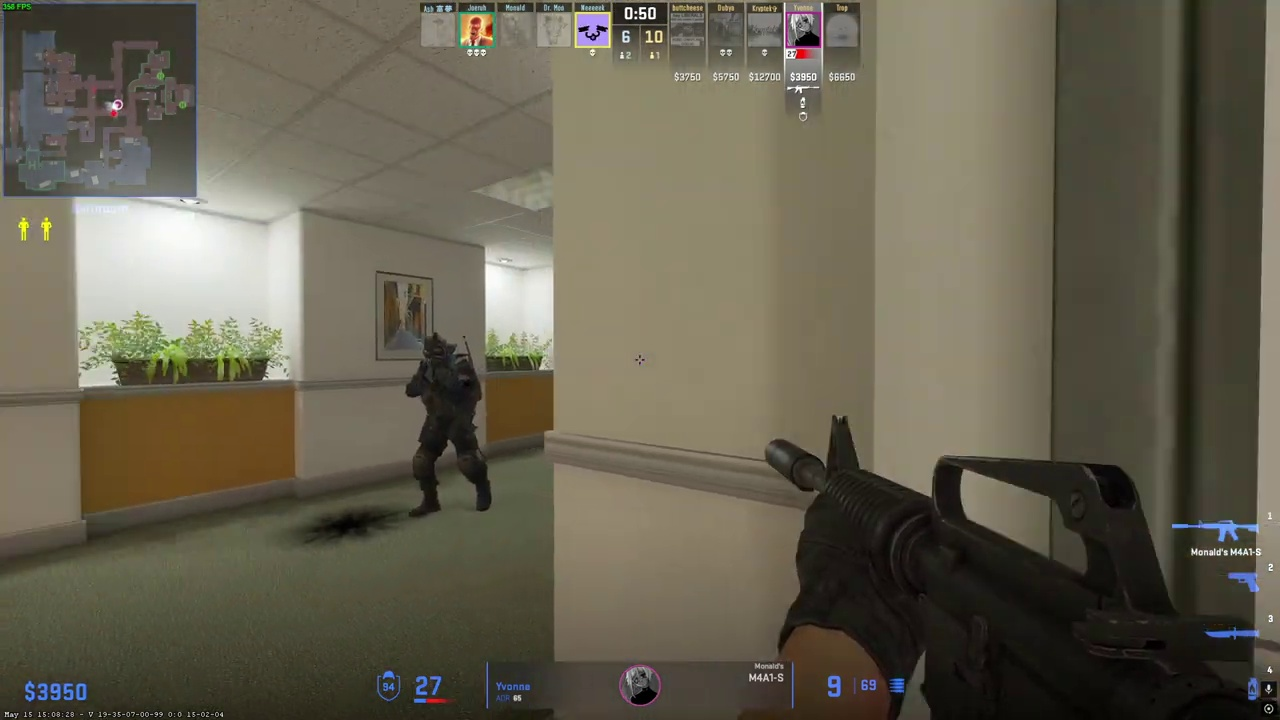CT: (405, 333, 488, 516)
